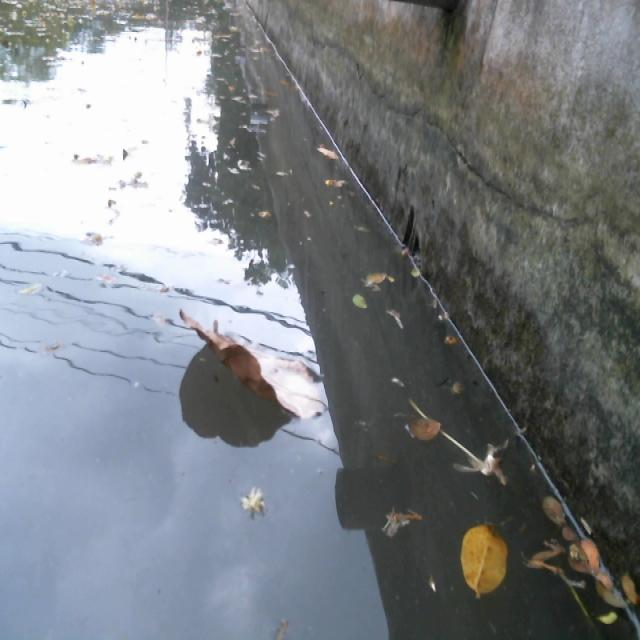Big-leaf: (168, 301, 332, 431)
Small-leaf: (452, 509, 514, 601), (518, 533, 569, 585), (566, 534, 605, 581), (535, 488, 569, 531), (403, 411, 445, 443), (615, 566, 638, 610), (314, 139, 340, 166), (348, 285, 369, 314), (596, 604, 619, 630), (362, 272, 393, 290), (322, 174, 343, 189)
